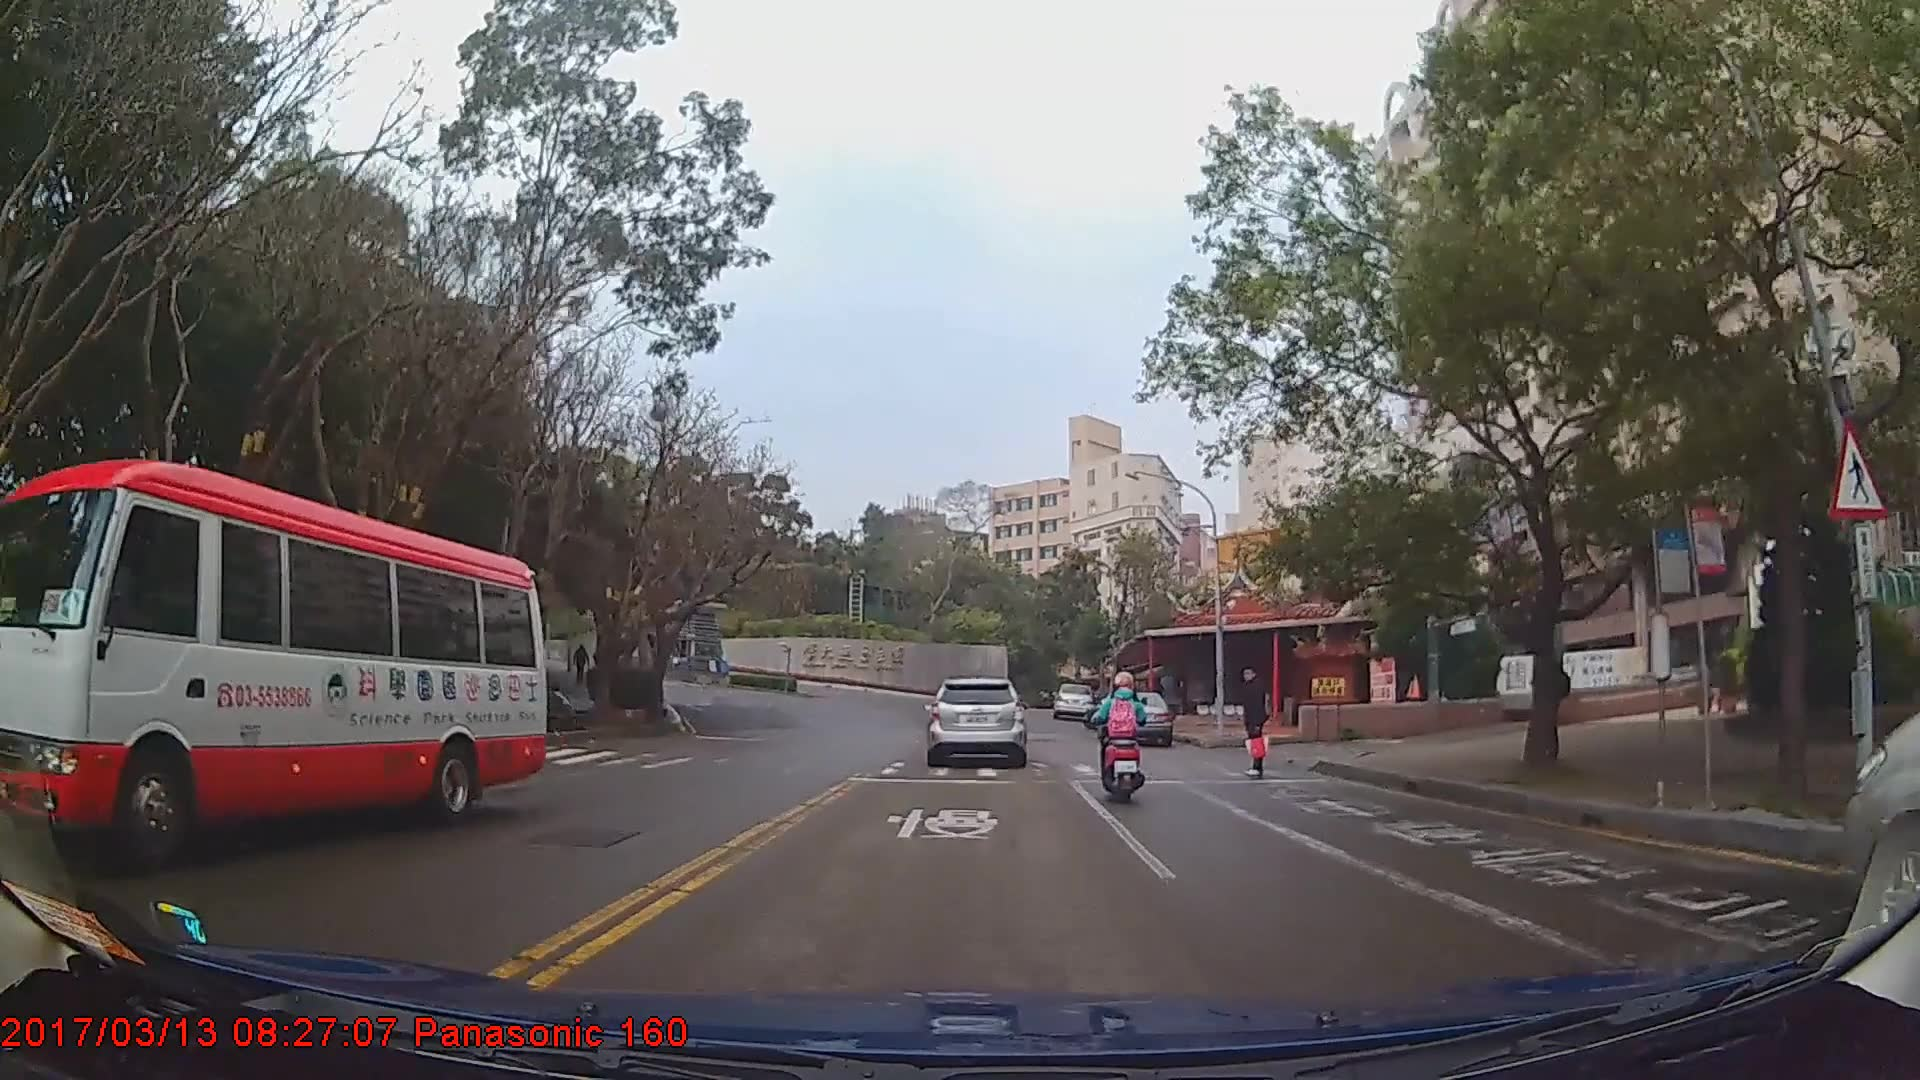pedestrian: (1239, 660, 1277, 779)
rider: (1090, 669, 1150, 801)
vehicle: (0, 455, 548, 876), (925, 674, 1028, 765), (1107, 690, 1174, 749), (1055, 681, 1094, 719)
